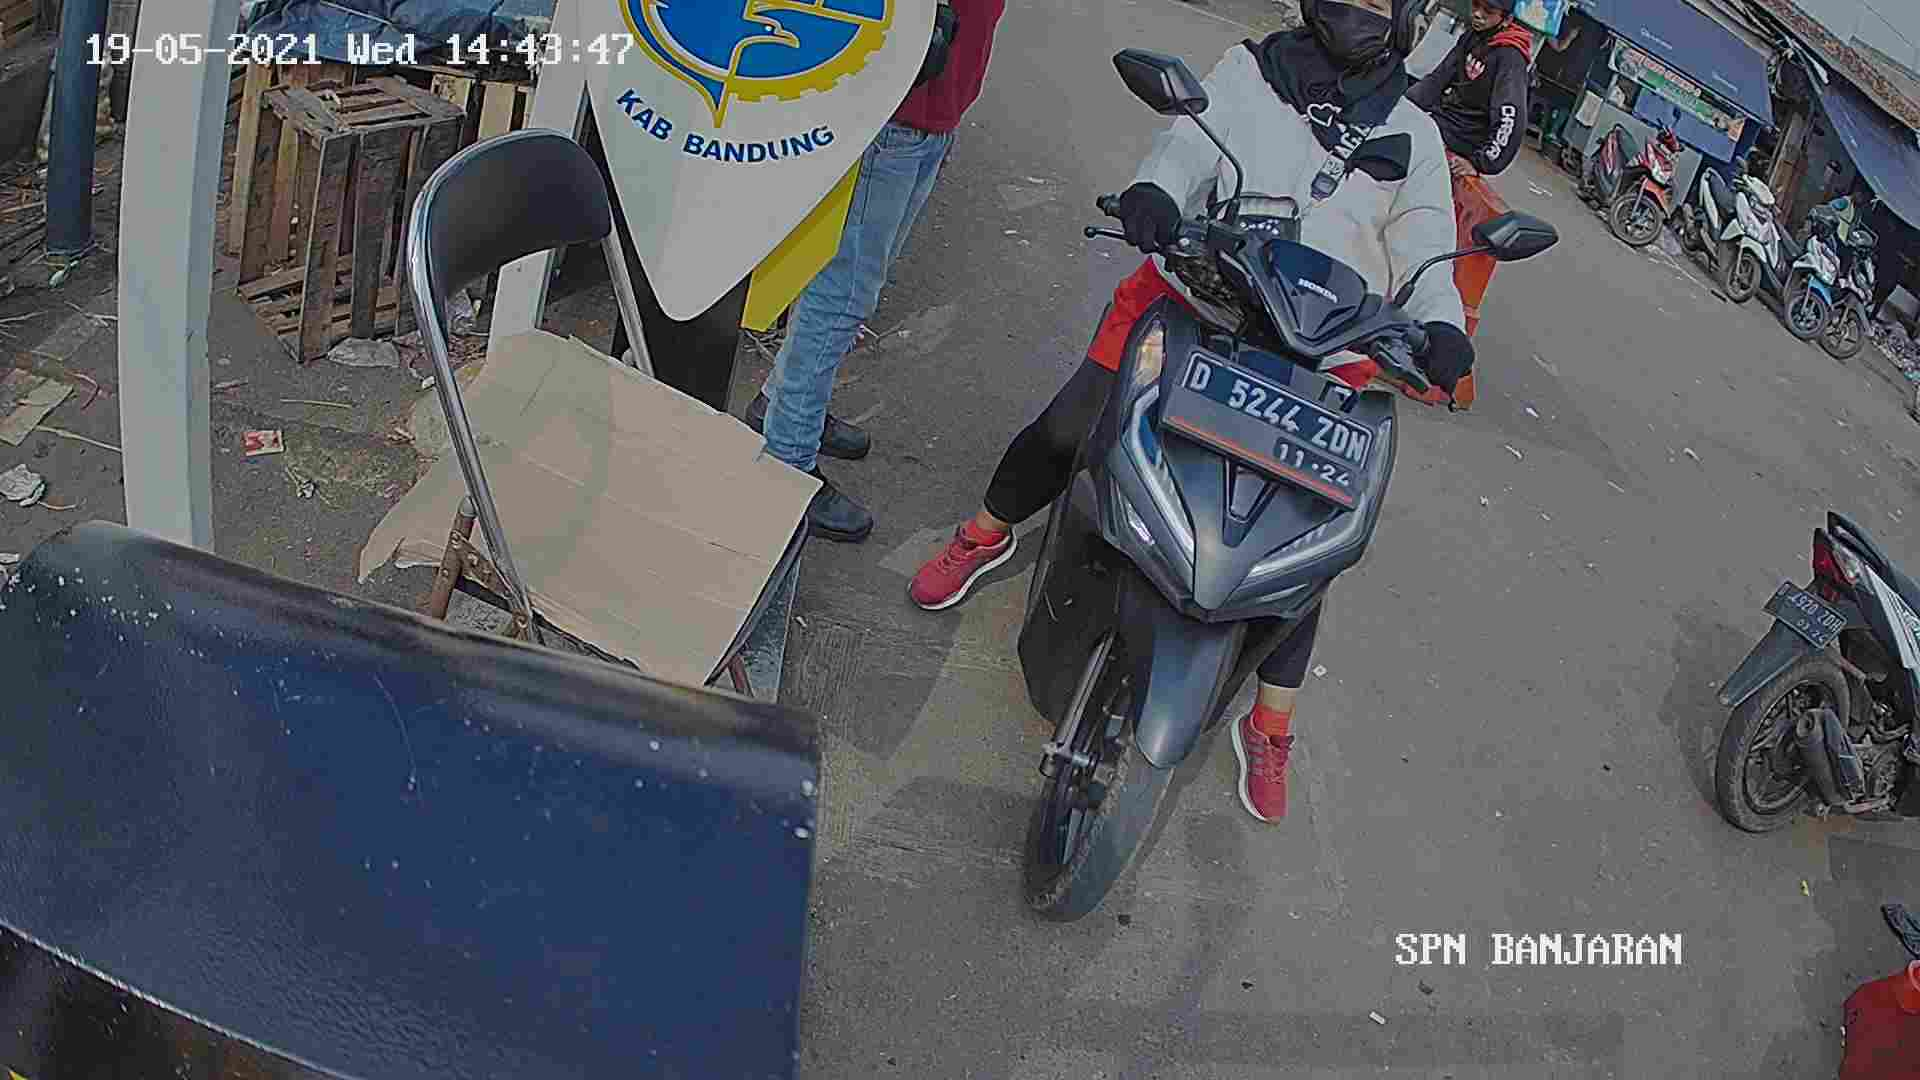motor: (1025, 185, 1453, 928), (1710, 501, 1920, 858)
